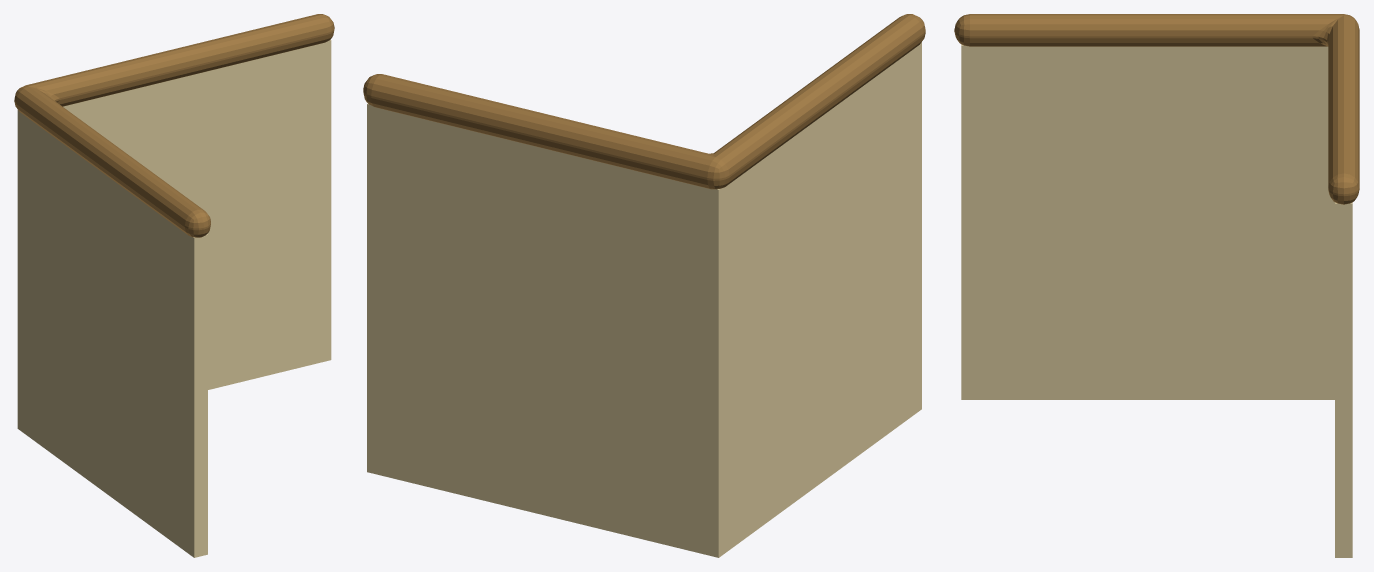
Rendered from CornerWallwithouttBrick01.fbx.
The picture shows the model from 3 angles, left to right: view 1: azimuth 30°, elevation 25°; view 2: azimuth 150°, elevation 25°; view 3: azimuth 270°, elevation 25°; orthographic projection. The views are drawn at different scales.
Parts seen in each view (by area): view 1: CornerWall01.001; view 2: CornerWall01.001; view 3: CornerWall01.001.
Part boxes in pixels (<box>): CornerWall01.001: <box>14,14,334,557</box>; CornerWall01.001: <box>363,14,925,557</box>; CornerWall01.001: <box>954,14,1359,557</box>.
Bounding box in the file's own units: 207 × 215 × 207.
